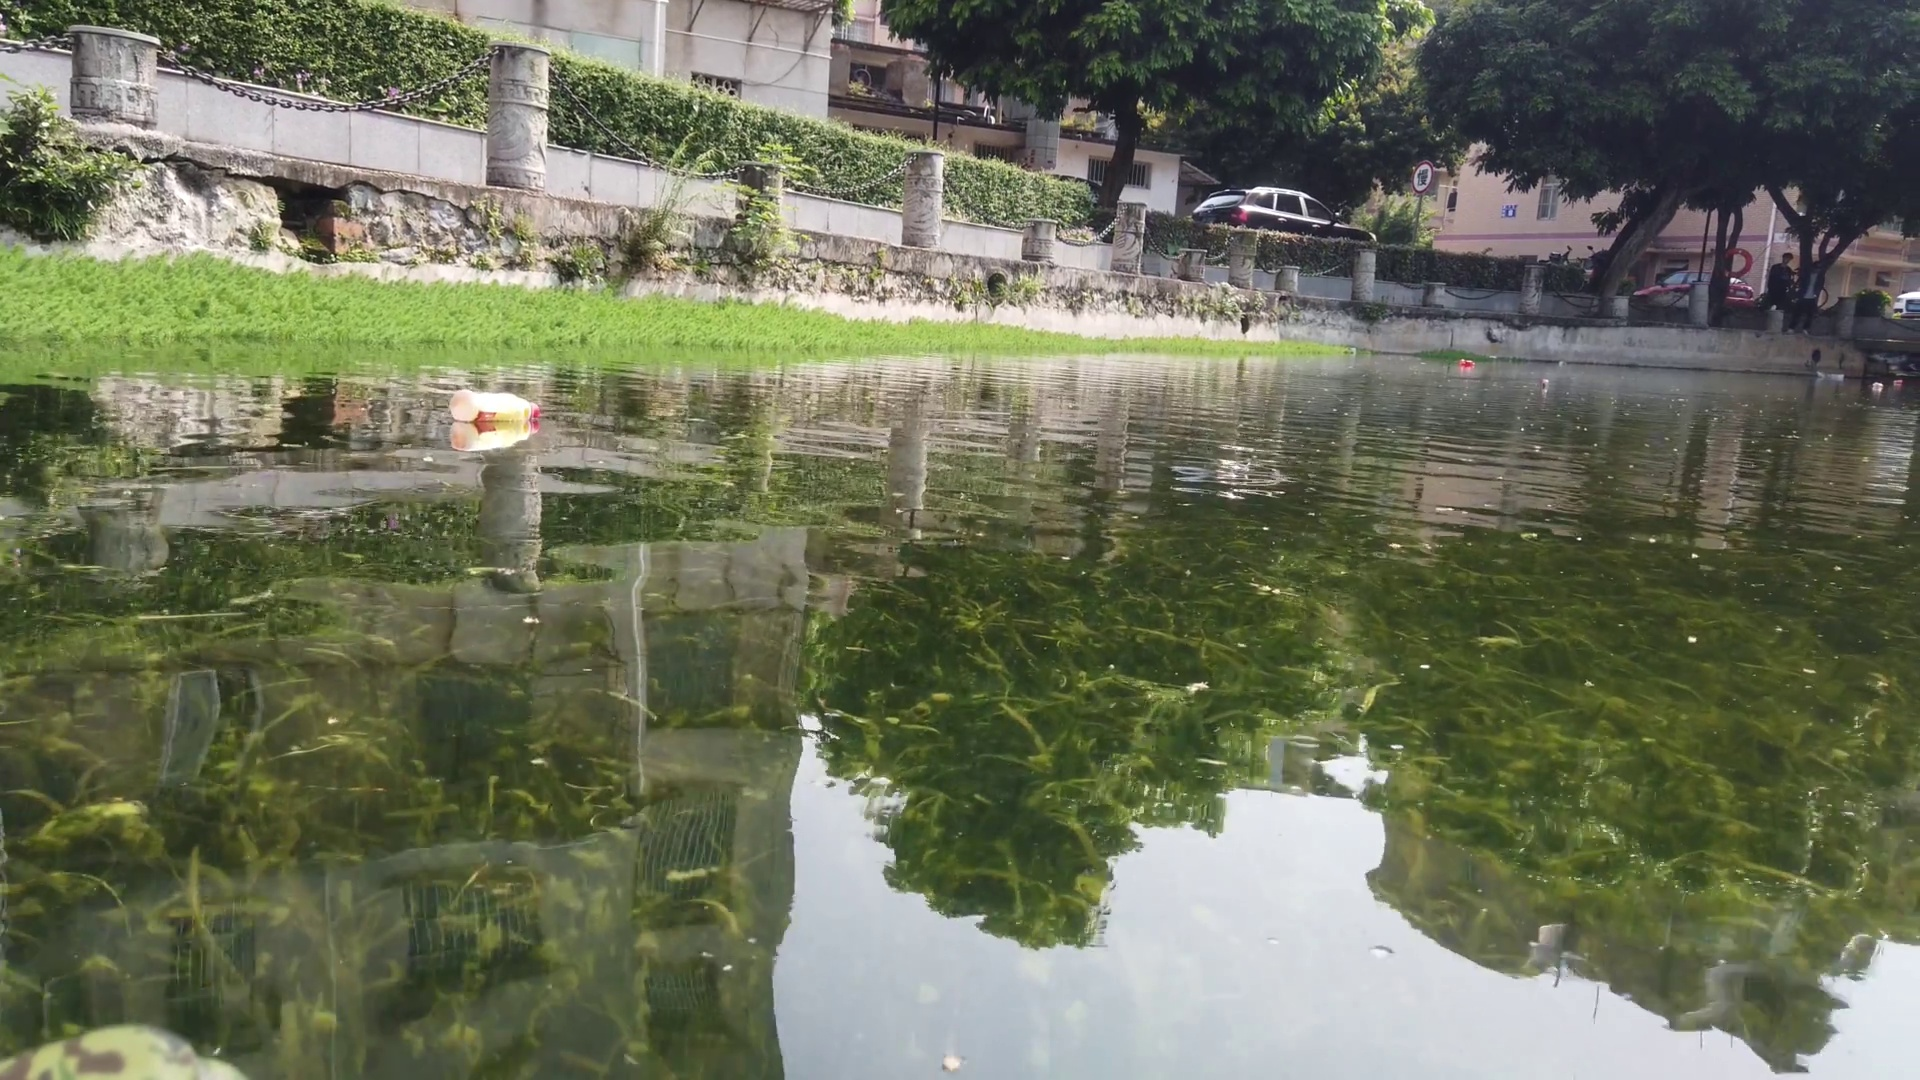bottle: (454, 388, 545, 419), (1458, 357, 1476, 369), (1888, 375, 1905, 385), (1870, 378, 1883, 392), (1538, 378, 1549, 388)
carton: (1826, 371, 1845, 382), (1817, 369, 1828, 382)
